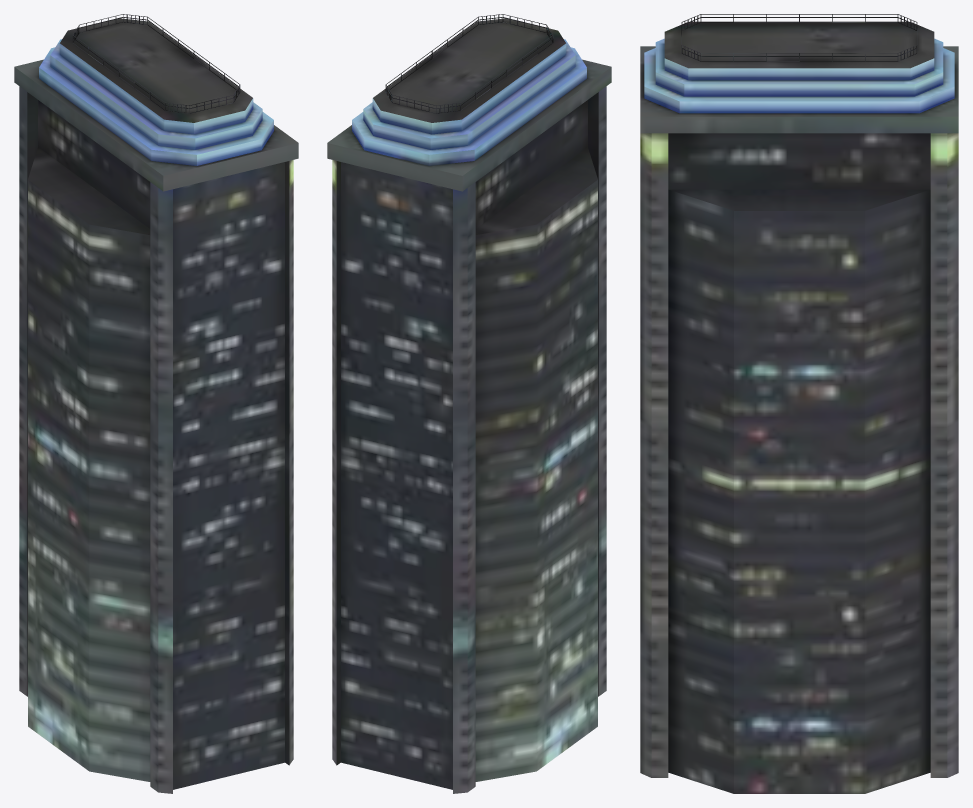
Rendered from building-night-11.glb.
3 views of the same model, side by side, from view 1: azimuth 30°, elevation 25°; view 2: azimuth 150°, elevation 25°; view 3: azimuth 270°, elevation 25° (orthographic). The views are drawn at different scales.
Visible parts, largest first — view 1: Cube.001_Background_Night_Buildings_0.011; view 2: Cube.001_Background_Night_Buildings_0.011; view 3: Cube.001_Background_Night_Buildings_0.011.
Boxes of the visible parts, box(x1,y1,x2,y2) form: Cube.001_Background_Night_Buildings_0.011: box(14, 14, 298, 793); Cube.001_Background_Night_Buildings_0.011: box(327, 14, 611, 793); Cube.001_Background_Night_Buildings_0.011: box(640, 14, 958, 793).
Size of the model in its own units: 14.11 by 45.75 by 18.6.
1 material, 1 textured.
